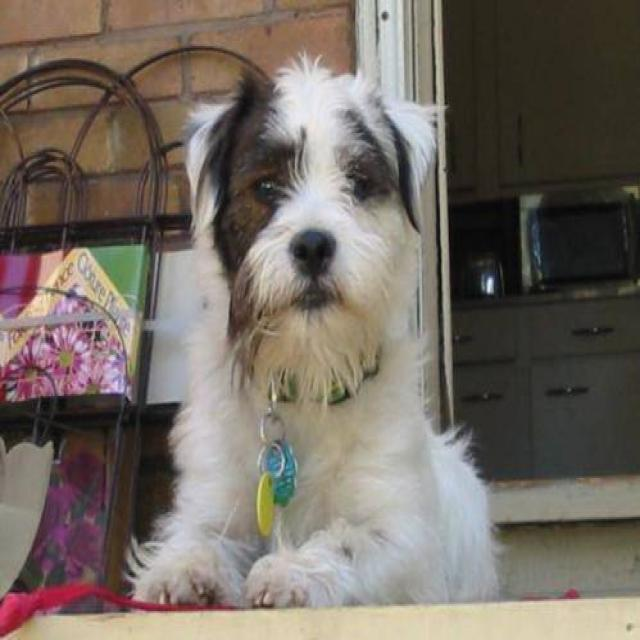dogs: (143, 61, 524, 640)
